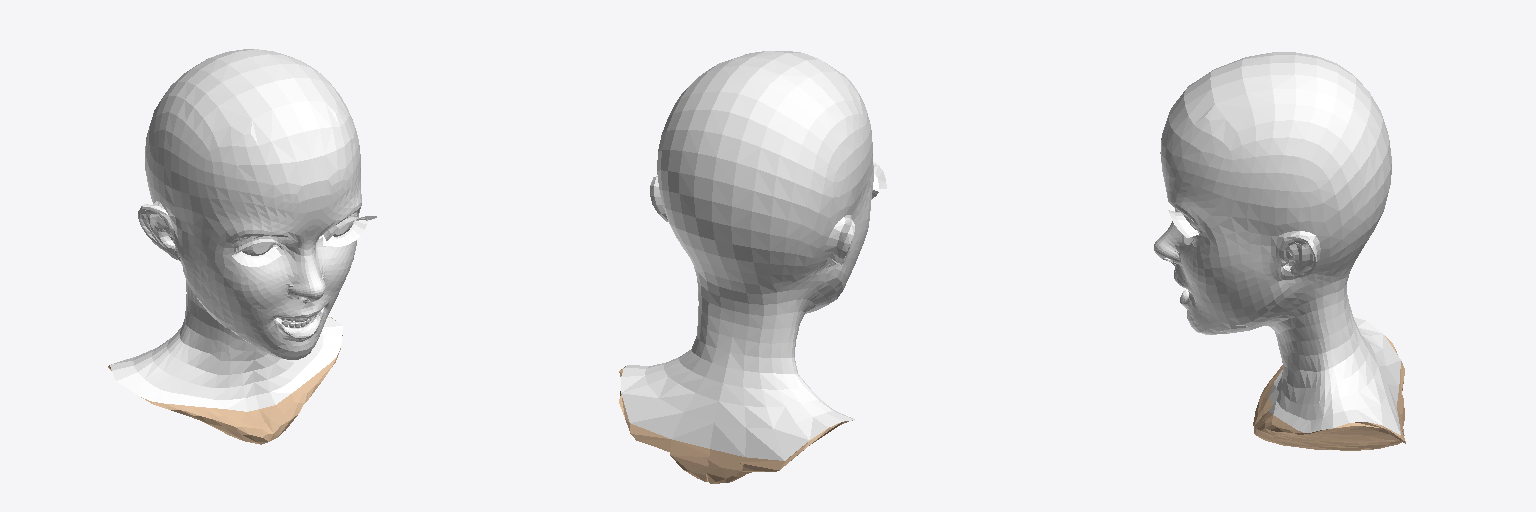
Rendered from E_SINGLE_WIDE.obj.
3 renders of one model, left to right at view 1: azimuth 30°, elevation 25°; view 2: azimuth 150°, elevation 25°; view 3: azimuth 270°, elevation 25°, orthographic.
Visible parts, largest first — view 1: Body, Eyelashes; view 2: Body; view 3: Body.
Boxes of the visible parts, x1,y1,x2,y2 form: Body: [110, 49, 361, 411]; Eyelashes: [232, 216, 376, 266]; Body: [621, 51, 873, 460]; Body: [1154, 52, 1400, 434].
Size of the model in its own units: 23 by 37.41 by 22.09.